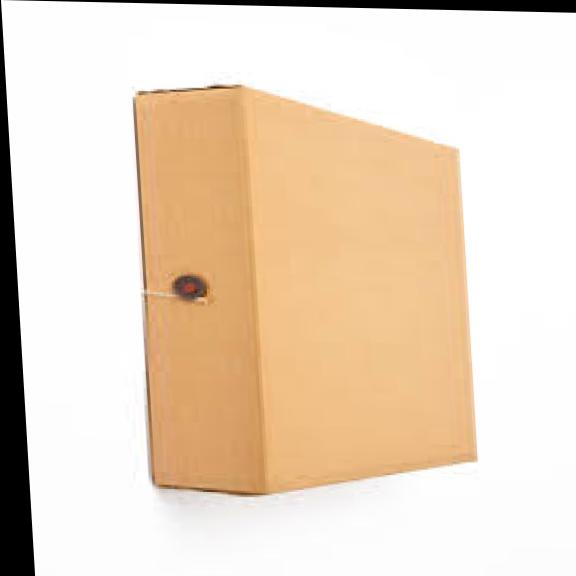Kertas: (138, 86, 474, 493)
